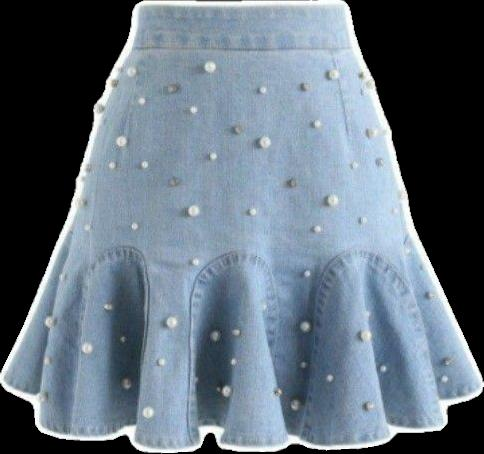Hemline: (303, 415, 446, 450), (0, 372, 54, 435), (191, 420, 284, 445), (65, 423, 135, 438), (442, 383, 483, 405)
Waistline: (297, 246, 445, 437), (186, 253, 288, 444), (67, 244, 148, 439), (404, 233, 447, 417), (48, 230, 78, 433), (123, 44, 359, 54), (136, 0, 348, 9)
